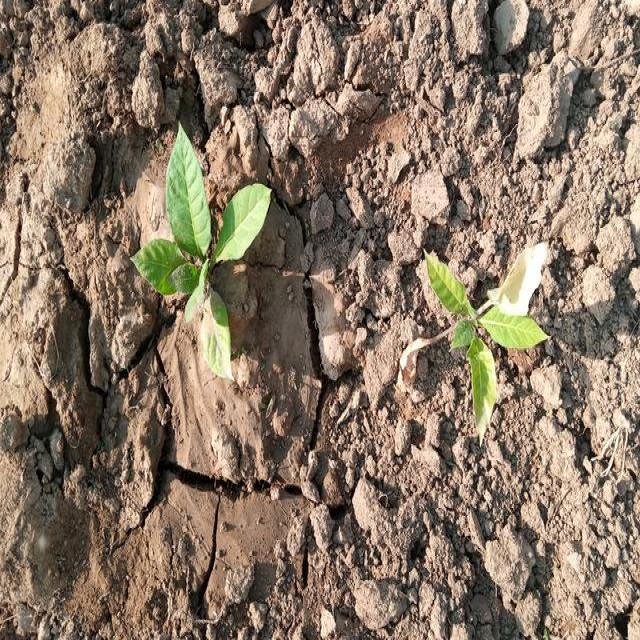crop: (135, 143, 257, 371), (422, 259, 542, 432)
